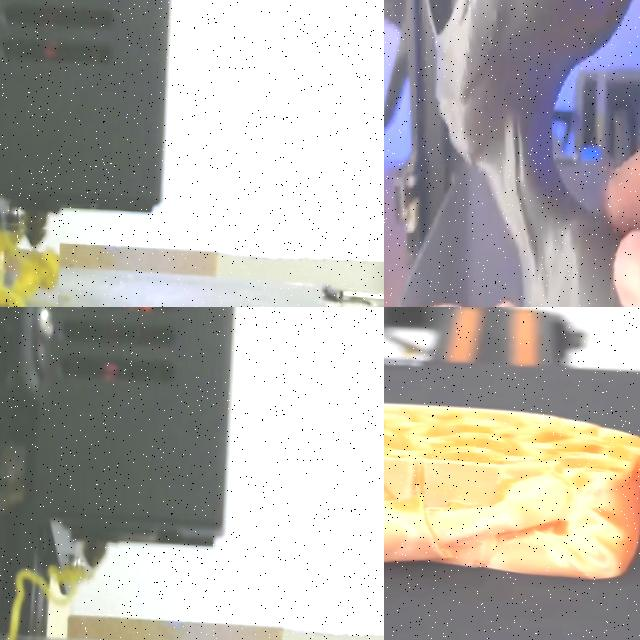spaghetti: (0, 228, 59, 307), (48, 565, 89, 594)
